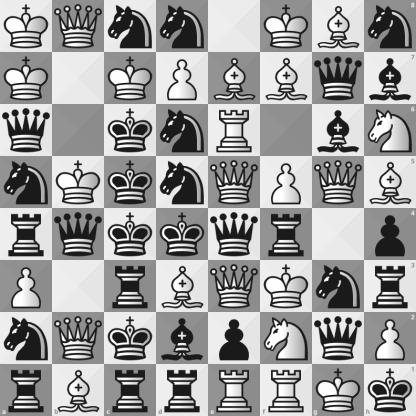B: (364, 156, 416, 209), (52, 364, 104, 416), (157, 261, 208, 312), (209, 53, 260, 104), (261, 53, 312, 104), (313, 1, 364, 52)
K: (312, 364, 364, 416), (1, 1, 52, 52), (1, 53, 52, 104), (53, 157, 104, 208), (105, 53, 156, 104), (261, 1, 312, 52), (261, 261, 312, 312)
N: (364, 104, 416, 156), (261, 313, 312, 364)
P: (364, 312, 416, 364), (1, 261, 52, 312), (157, 53, 208, 104), (261, 157, 312, 208)
Q: (53, 1, 104, 52), (53, 313, 104, 364), (209, 157, 260, 208), (209, 261, 260, 312), (313, 157, 364, 208)
R: (260, 364, 312, 416), (209, 364, 260, 416), (209, 105, 260, 156)
b: (364, 52, 416, 104), (157, 313, 208, 364), (313, 105, 364, 156)
board: (0, 0, 415, 415)
k: (364, 364, 416, 416), (105, 105, 156, 156), (105, 157, 156, 208), (105, 209, 156, 260), (105, 313, 156, 364), (157, 209, 208, 260)
n: (364, 0, 416, 52), (1, 157, 52, 208), (1, 313, 52, 364), (105, 1, 156, 52), (157, 1, 208, 52), (157, 105, 208, 156), (157, 157, 208, 208), (313, 261, 364, 312)
p: (364, 209, 416, 260), (209, 313, 260, 364)
q: (1, 105, 52, 156), (53, 209, 104, 260), (209, 209, 260, 260), (313, 53, 364, 104), (313, 313, 364, 364)
r: (156, 364, 209, 416), (0, 364, 52, 416), (104, 364, 156, 416), (364, 260, 416, 312), (1, 209, 52, 260), (105, 261, 156, 312), (261, 209, 312, 260)
